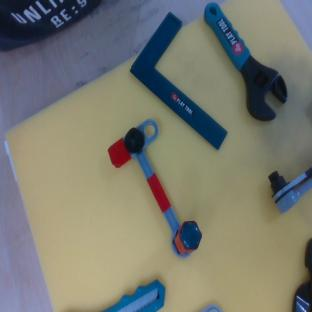pass: (102, 117, 207, 269)
